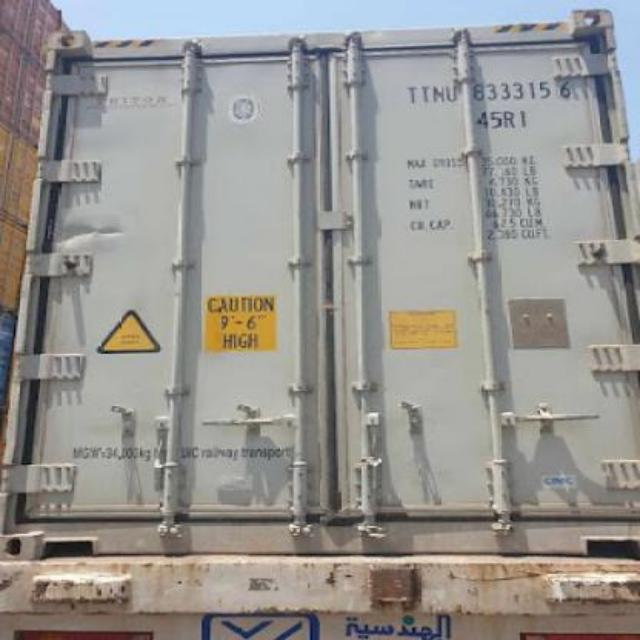1: (526, 80, 538, 102)
3: (510, 81, 528, 102), (498, 81, 512, 101), (486, 81, 499, 102)
5: (538, 78, 554, 102)
6: (560, 80, 574, 102)
8: (472, 83, 486, 103)
N: (432, 85, 448, 105)
T: (418, 83, 434, 107), (404, 84, 420, 106)
U: (444, 84, 460, 106)
